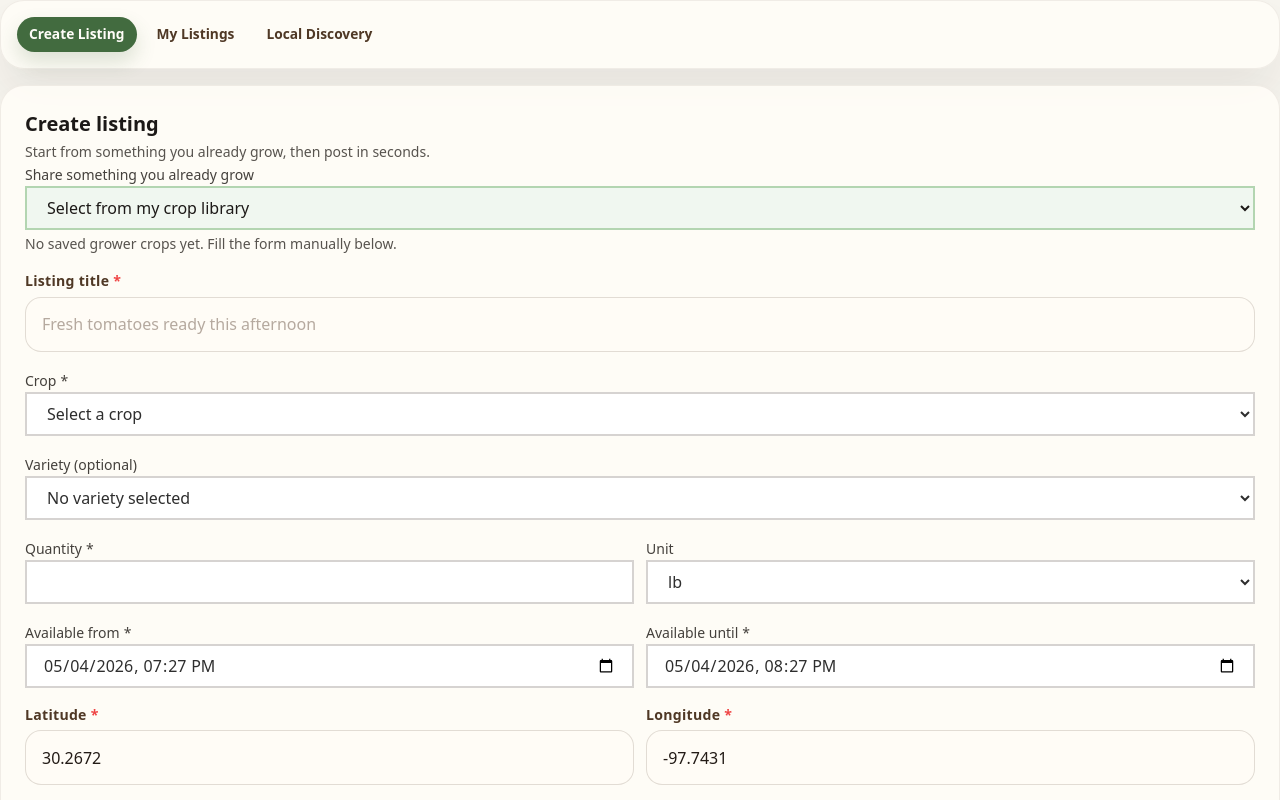
Test: GrowerListingPanel › renders my listings, applies status filters, and opens listing details
Click the tab "My Listings": {"x": 195, "y": 34} [144,17,246,52]
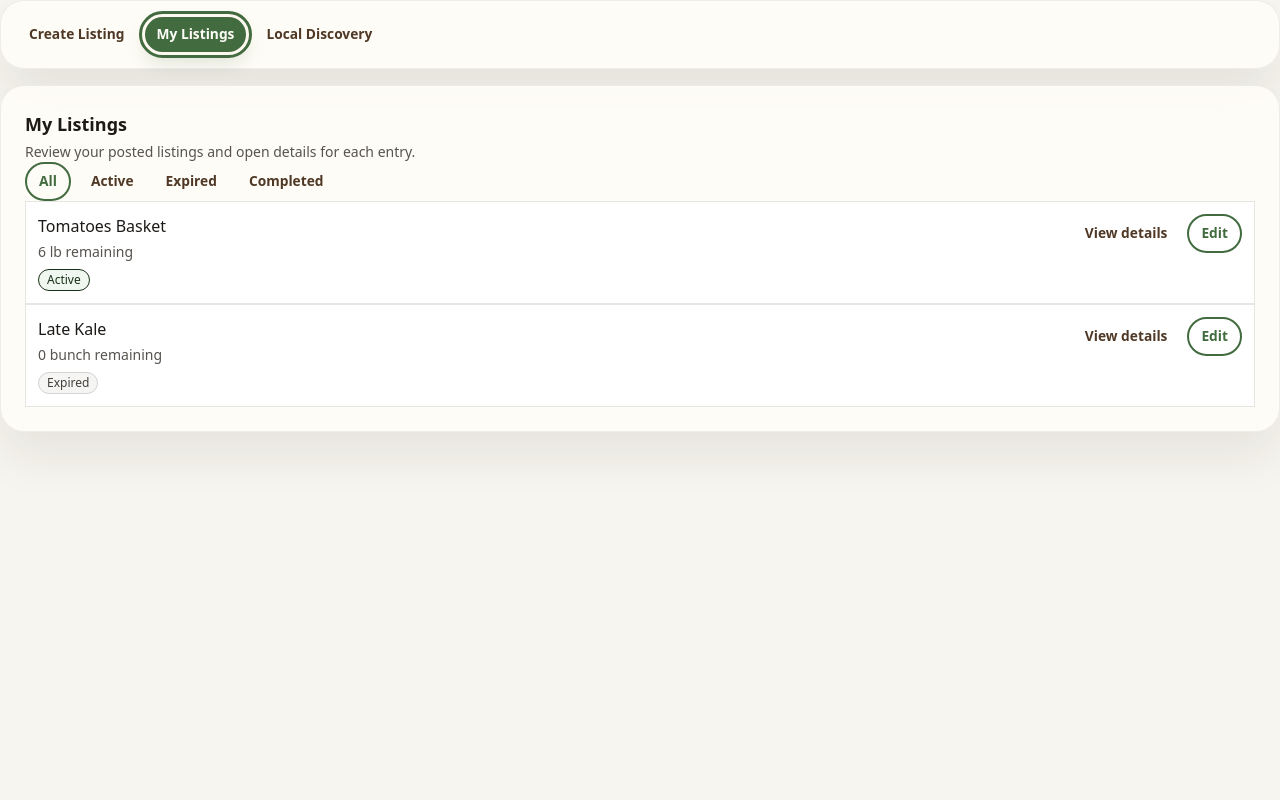
Expected: the text "Tomatoes Basket" is shown, [38,214,166,238]
Expected: the button "Active" is shown, [79,162,146,201]
Click the button "Expired": {"x": 191, "y": 182} [154,162,229,201]
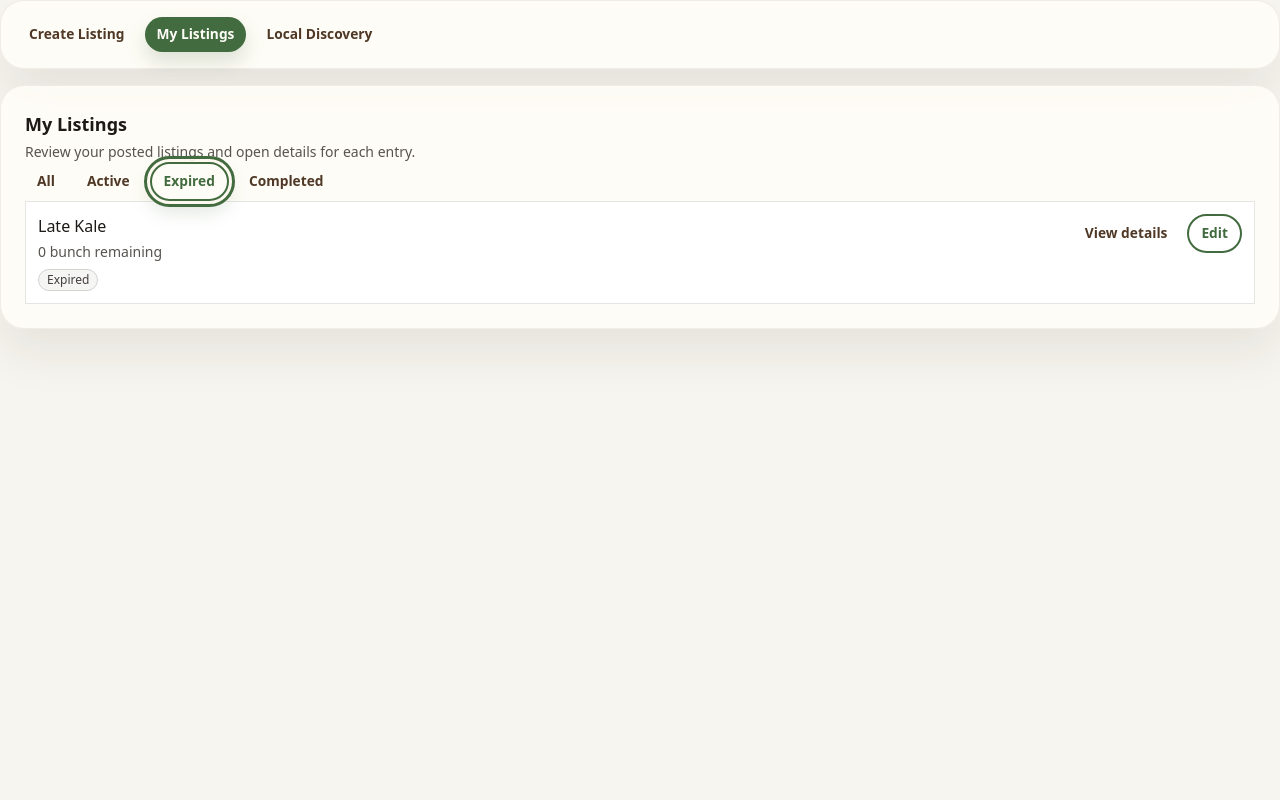
Expected: the text "Late Kale" is shown, [38,215,106,237]
Click the button "View details": {"x": 1126, "y": 234} [1073,214,1180,253]
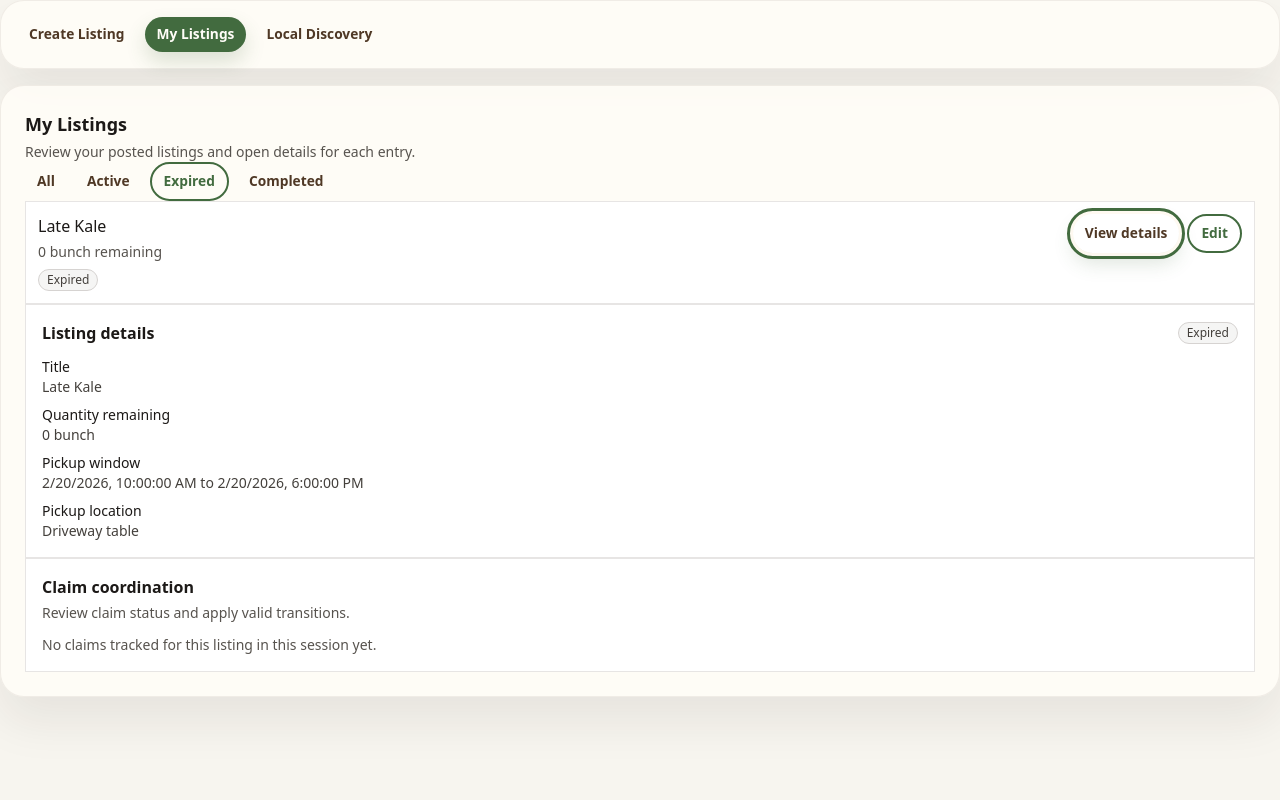
Expected: the heading "Listing details" is shown, [42,321,154,345]
Expected: the text "Driveway table" is shown, [42,521,139,540]
